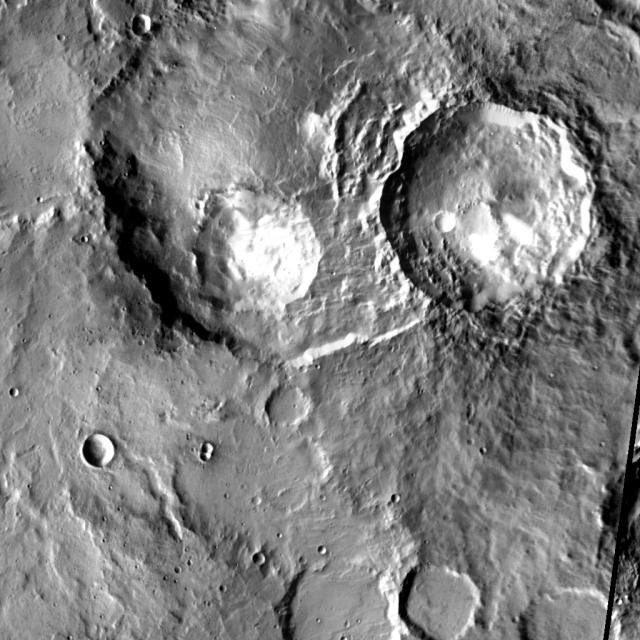crater: (377, 96, 586, 318), (279, 557, 409, 639), (398, 565, 480, 640), (522, 589, 610, 640), (574, 0, 640, 43), (266, 384, 310, 428), (83, 434, 115, 466), (434, 212, 456, 232), (131, 14, 152, 34), (5, 0, 29, 9), (252, 552, 266, 566), (476, 157, 489, 169), (201, 443, 213, 454), (10, 387, 20, 397), (195, 200, 204, 210), (200, 452, 210, 461), (391, 493, 400, 502), (252, 496, 261, 505), (56, 34, 66, 42), (443, 514, 452, 522), (318, 546, 327, 554), (7, 101, 15, 109), (300, 556, 308, 564), (467, 438, 475, 446), (508, 193, 516, 200), (492, 22, 499, 30), (392, 369, 400, 376), (174, 566, 182, 573), (300, 366, 308, 373), (220, 585, 228, 592), (449, 169, 457, 176), (512, 616, 519, 623), (369, 568, 376, 575), (480, 447, 487, 454), (272, 435, 280, 441), (30, 167, 38, 173), (285, 374, 292, 380), (303, 29, 310, 35), (348, 47, 355, 53), (319, 494, 326, 500), (81, 236, 88, 242), (416, 585, 422, 591), (329, 394, 335, 400), (332, 82, 338, 88), (187, 560, 193, 566), (388, 346, 394, 352), (616, 599, 622, 605), (139, 340, 145, 346), (344, 622, 350, 628), (241, 484, 247, 490), (204, 601, 210, 606), (337, 149, 343, 154), (599, 442, 605, 447), (125, 22, 131, 27), (396, 421, 401, 427), (366, 480, 372, 485), (342, 486, 347, 492), (254, 623, 260, 628), (388, 502, 393, 508), (394, 20, 400, 25), (190, 447, 196, 452), (592, 11, 597, 17), (66, 635, 72, 640), (315, 364, 320, 370), (16, 512, 22, 517), (37, 197, 43, 202), (96, 386, 101, 392), (242, 419, 247, 424), (593, 365, 598, 370), (252, 507, 257, 512), (152, 589, 157, 594), (53, 602, 58, 607), (179, 124, 184, 129), (163, 576, 168, 581), (358, 370, 363, 375), (549, 373, 554, 378), (224, 493, 229, 498), (277, 533, 282, 538), (370, 370, 374, 376), (206, 602, 212, 606), (180, 380, 186, 384), (465, 166, 471, 170), (4, 308, 10, 312), (274, 624, 278, 630), (72, 370, 77, 374), (219, 534, 224, 538), (261, 90, 266, 94), (292, 404, 297, 408), (263, 87, 268, 91), (124, 172, 128, 177), (122, 307, 127, 311), (294, 477, 299, 481), (331, 272, 336, 276), (353, 500, 358, 504), (108, 486, 113, 490), (316, 618, 320, 623), (22, 338, 27, 342), (0, 267, 4, 272), (343, 470, 348, 474), (27, 484, 32, 488), (356, 619, 361, 623), (18, 323, 22, 328), (341, 637, 347, 640), (420, 389, 424, 393), (361, 397, 365, 401), (184, 548, 188, 552), (231, 95, 235, 99), (27, 408, 31, 412), (50, 340, 54, 344), (94, 596, 98, 600), (184, 587, 188, 591), (186, 435, 190, 439), (412, 473, 416, 477), (424, 540, 428, 544), (241, 522, 245, 526), (102, 517, 106, 521), (389, 433, 393, 437), (102, 538, 106, 542), (174, 579, 178, 583), (48, 314, 52, 318), (135, 565, 139, 569), (100, 141, 104, 145), (214, 636, 218, 640), (100, 615, 104, 618), (118, 507, 121, 511), (280, 554, 283, 557)
